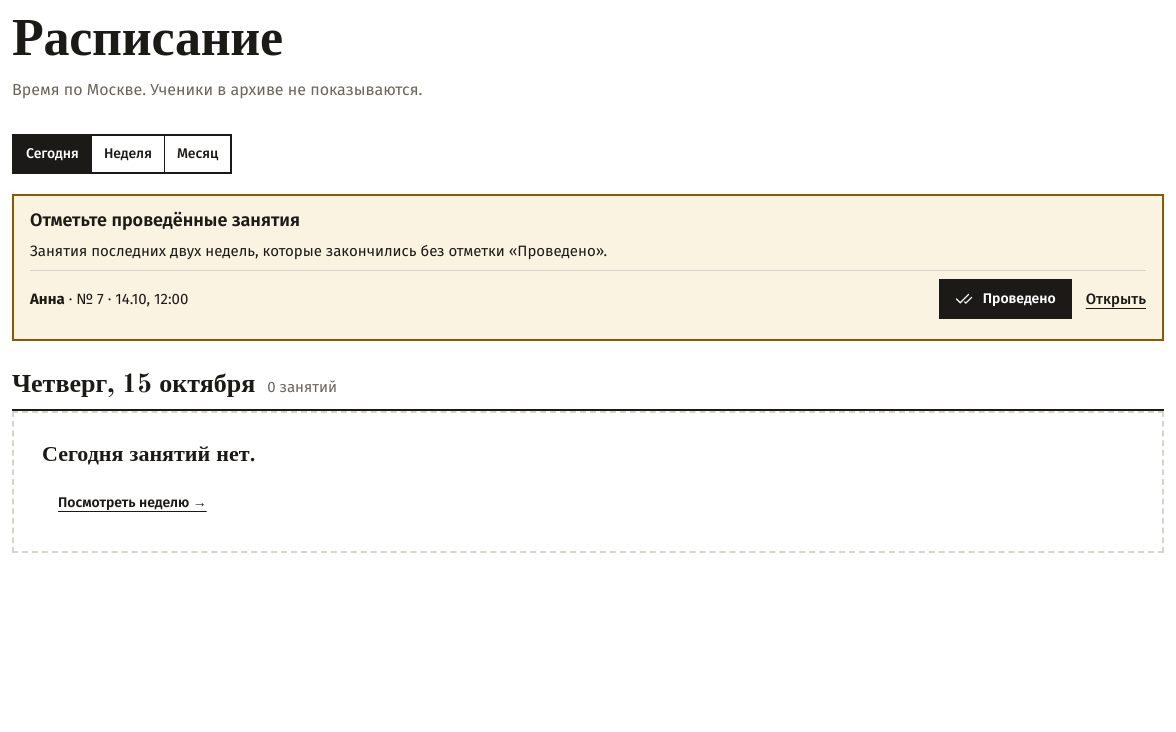
it: Teacher schedule › asks for a fresh schedule after a revision conflict and hides the reminder in the week view
Click the button "Проведено" at {"x": 1005, "y": 299}, box [939,279,1072,319]
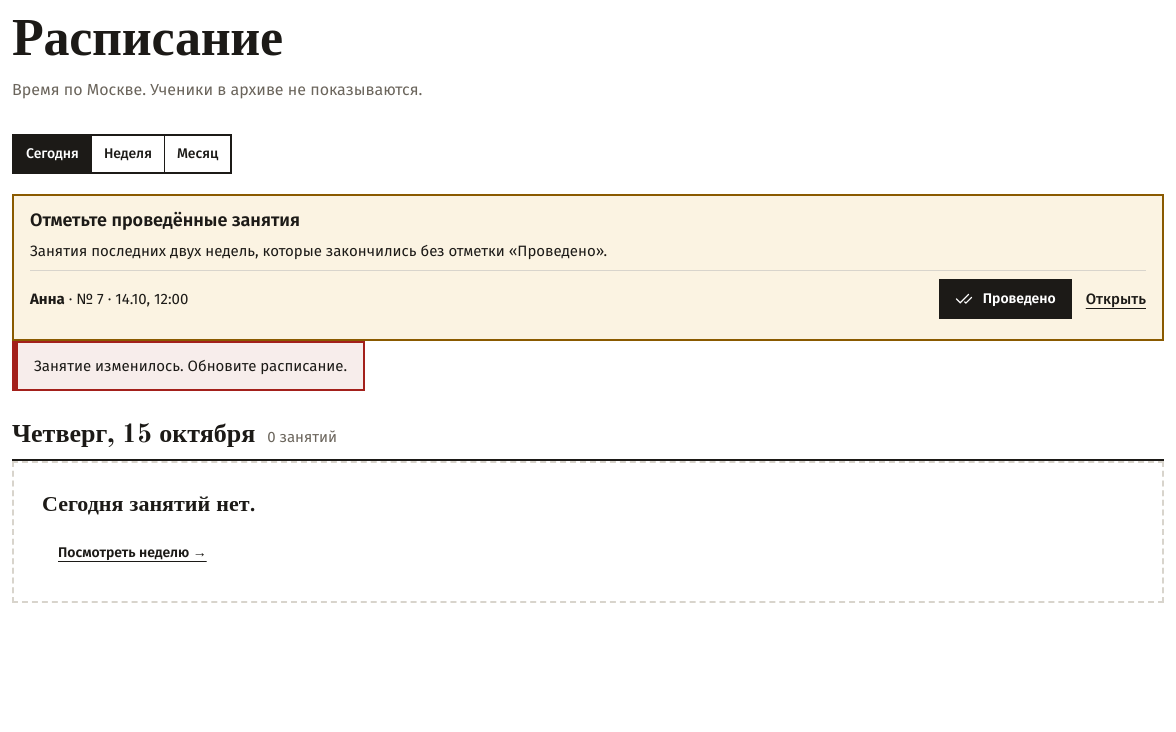
expect the message "Занятие изменилось. Обновите расписание." is shown: met, box [12,341,365,391]
Click the button "Неделя" at {"x": 127, "y": 154}, box [91,136,164,172]
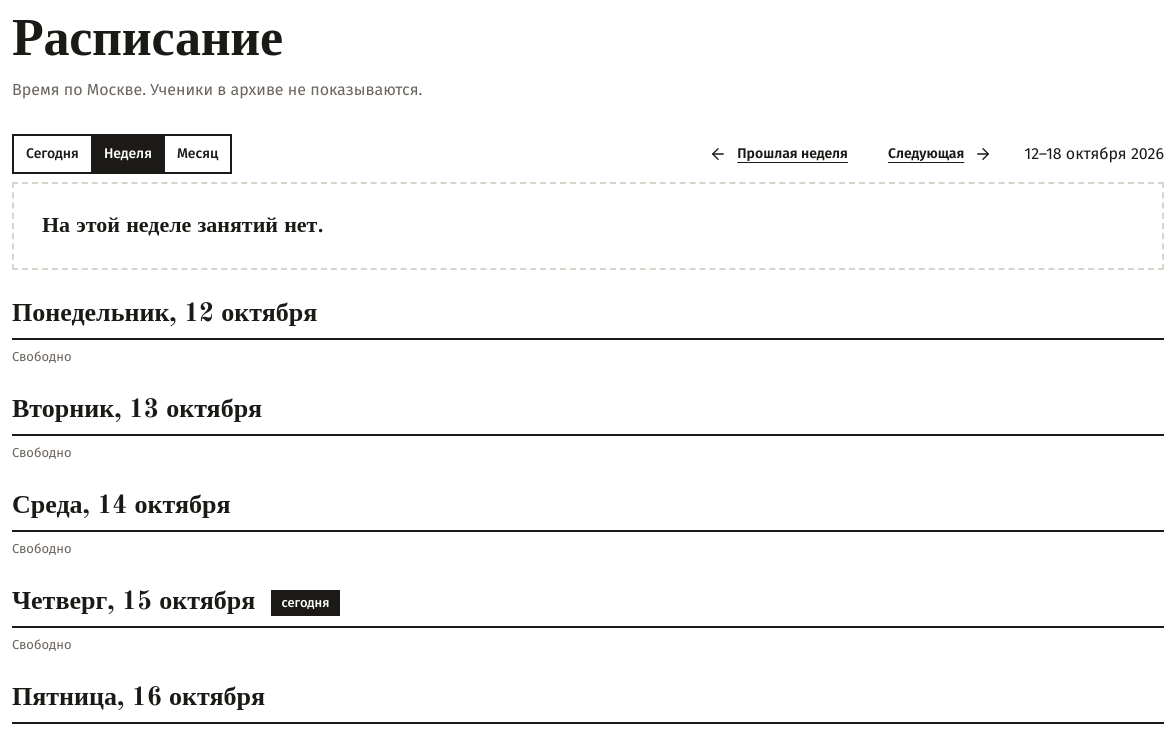
expect the element with class "conducted-reminder" is gone: met
expect the message "Занятие изменилось. Обновите расписание." is gone: met
